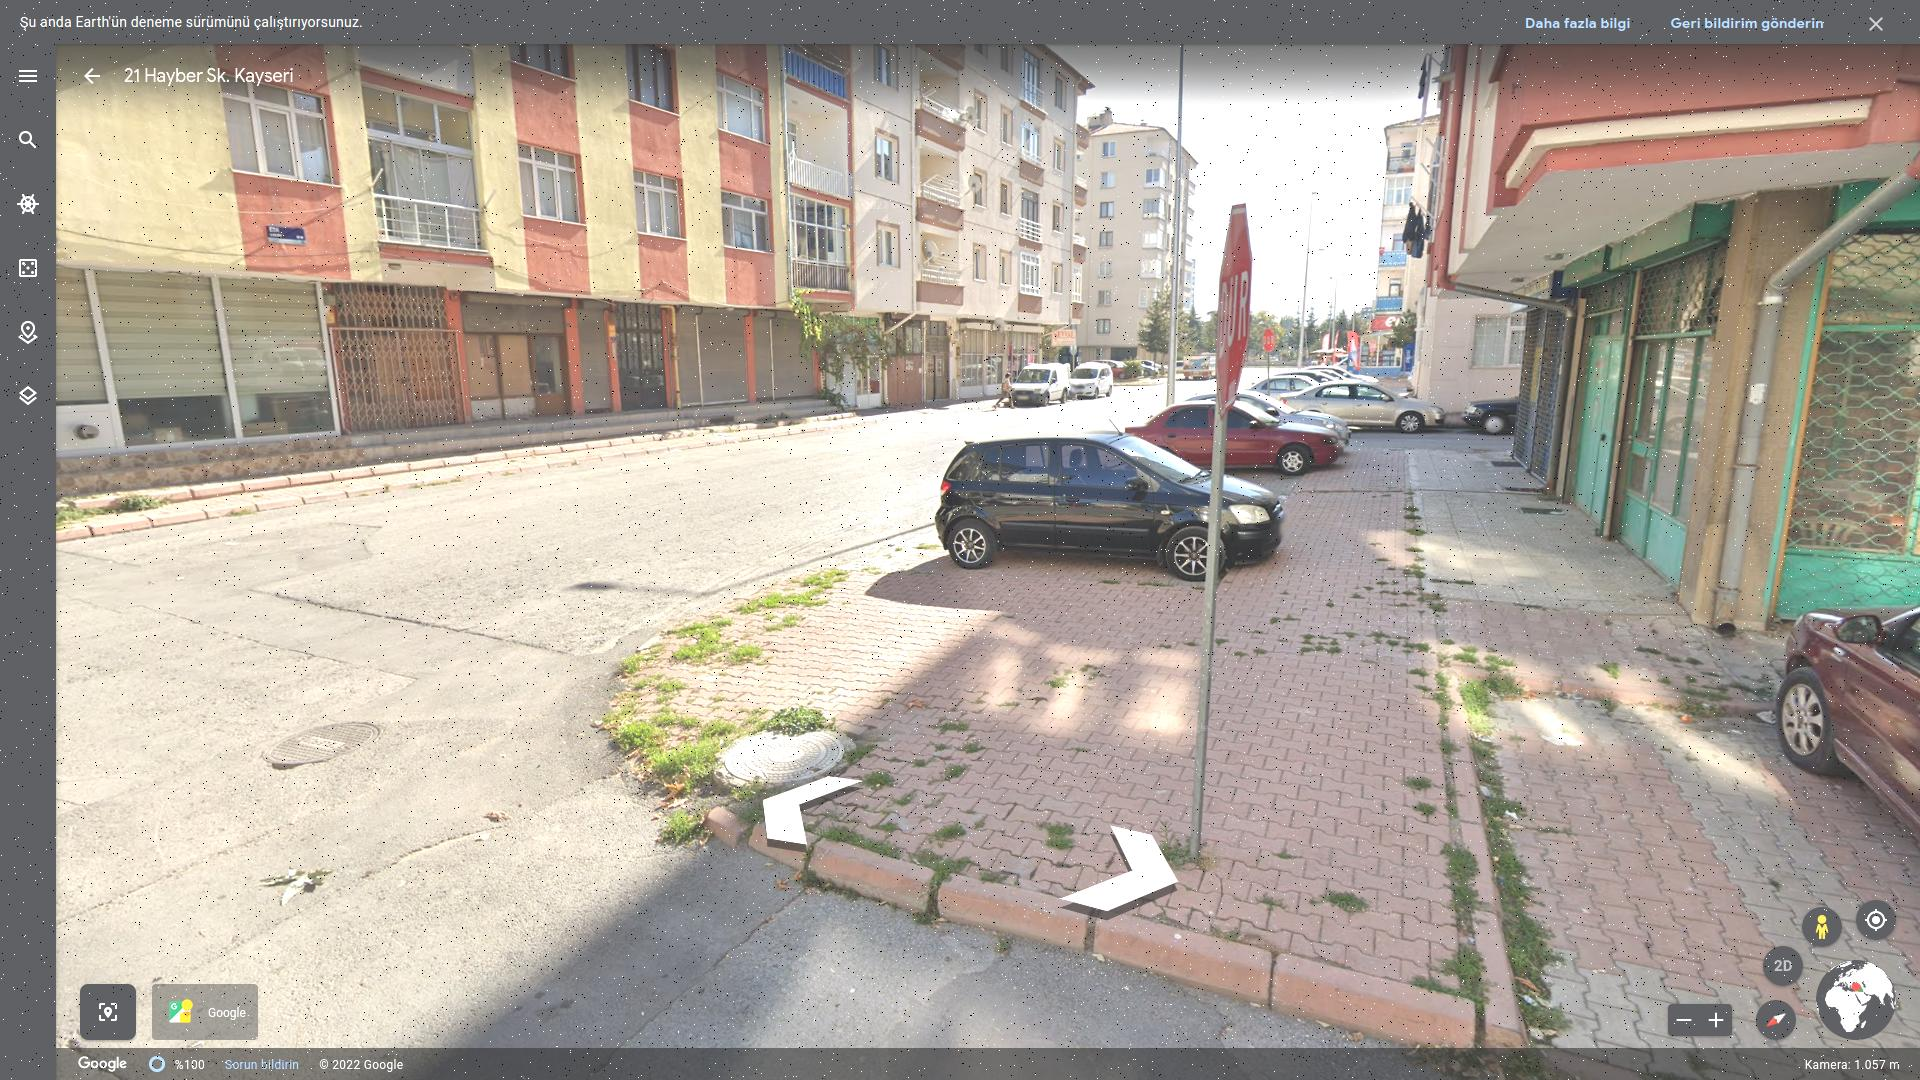stop: (1217, 202, 1257, 413), (1261, 327, 1275, 351)
